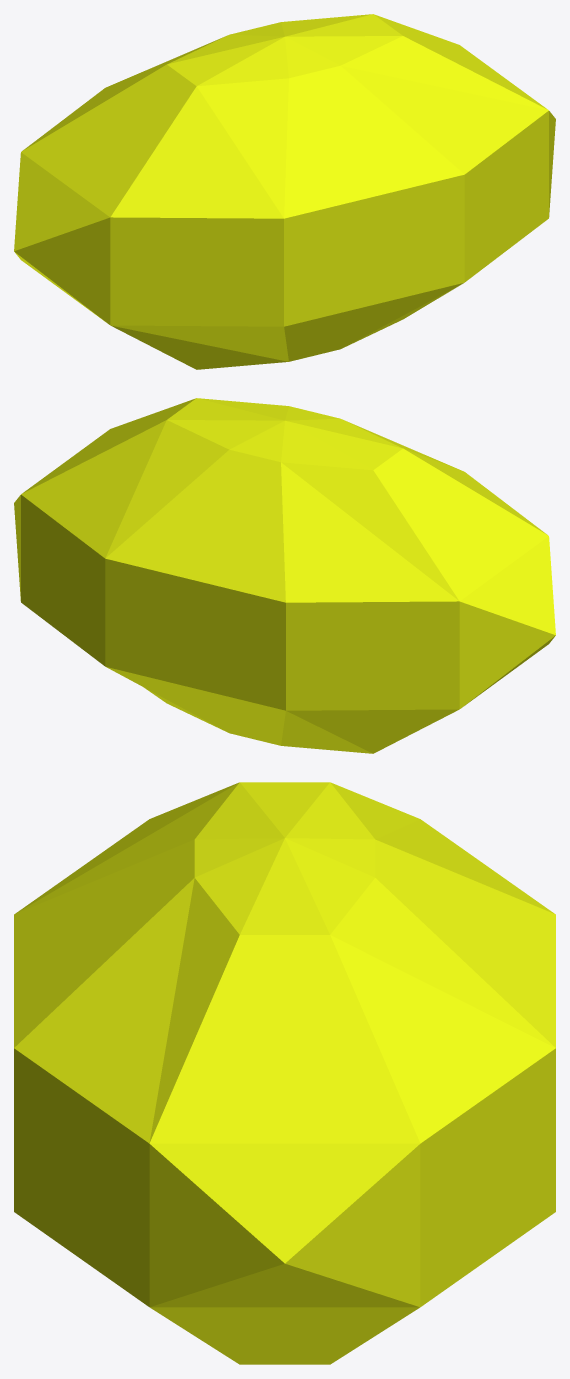
The model's file is inv_lemon.obj.
3 renders of one model, top to bottom at view 1: azimuth 30°, elevation 25°; view 2: azimuth 150°, elevation 25°; view 3: azimuth 270°, elevation 25°, orthographic. The views are drawn at different scales.
Bounding box in the file's own units: 0.3281 × 0.1719 × 0.1875.
